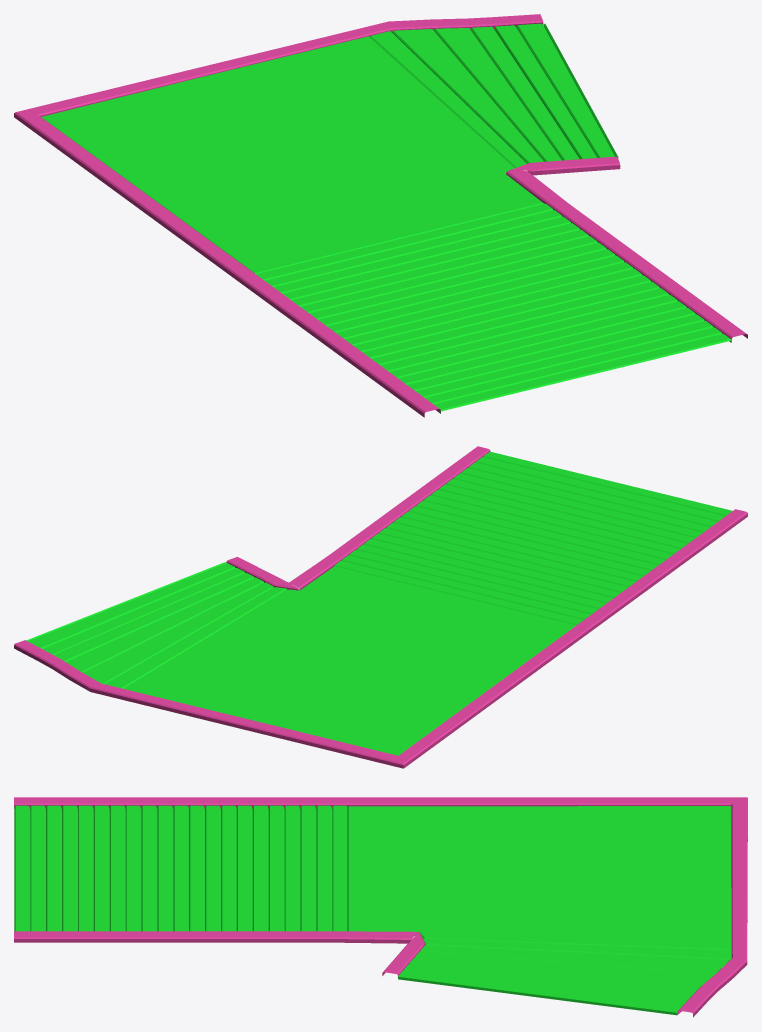
Rendered from Corner_Floor_3.fbx.
The picture shows the model from 3 angles, top to bottom: view 1: azimuth 30°, elevation 25°; view 2: azimuth 150°, elevation 25°; view 3: azimuth 270°, elevation 25°; orthographic projection. The views are drawn at different scales.
Parts seen in each view (by area): view 1: Floor.Corner; view 2: Floor.Corner; view 3: Floor.Corner.
Boxes of the visible parts, <box> form: Floor.Corner: <box>14,14,747,417</box>; Floor.Corner: <box>14,446,747,768</box>; Floor.Corner: <box>14,797,747,1017</box>.
Bounding box in the file's own units: 1532 × 16.05 × 2199.
